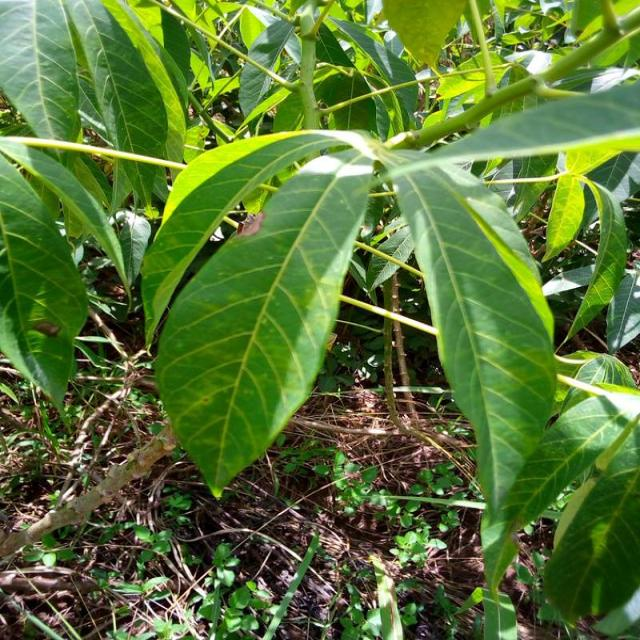cassava leaf: (382, 144, 558, 617), (152, 146, 374, 499), (0, 152, 89, 418)
